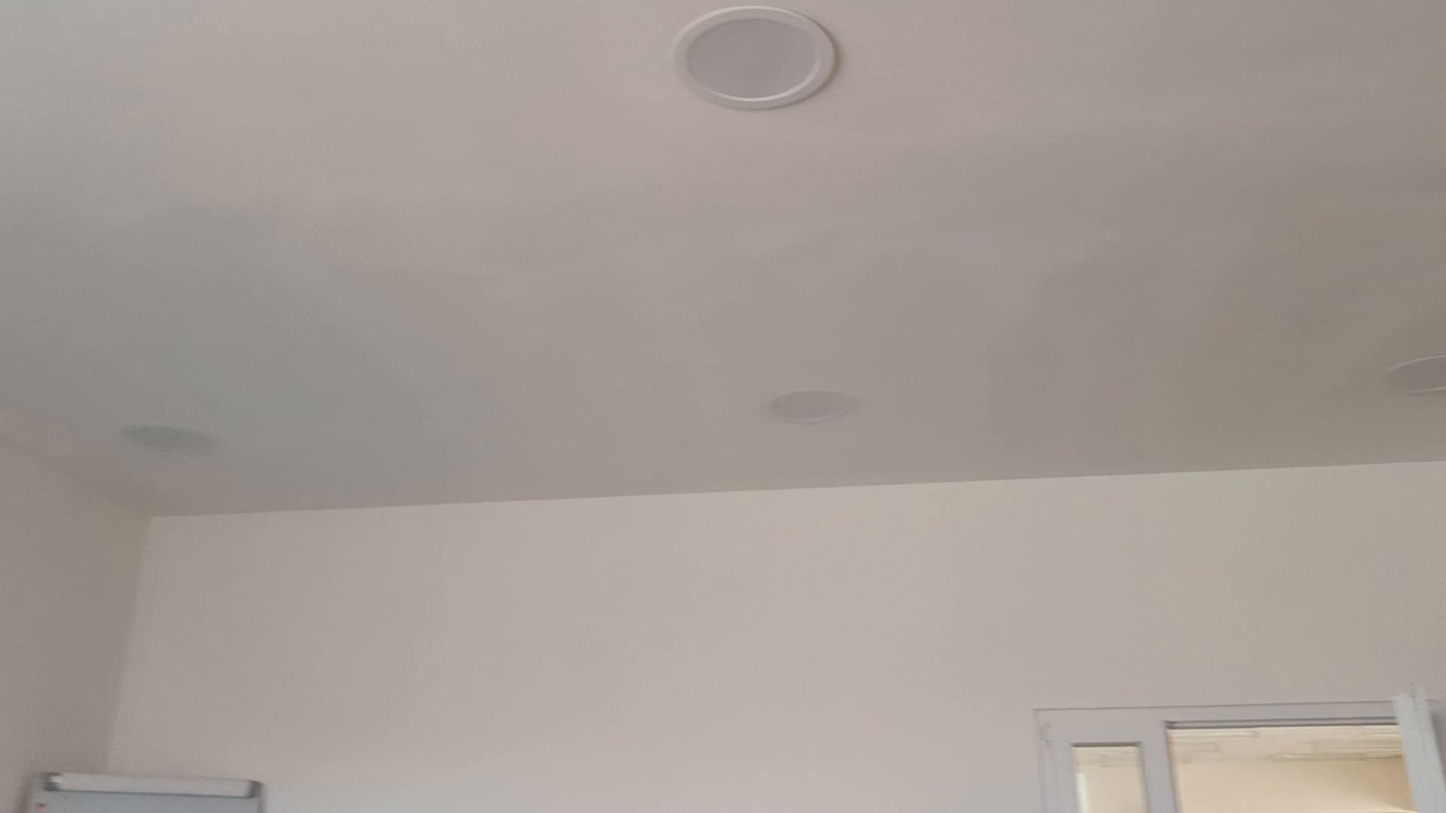ceiling: (0, 0, 1445, 513)
wall: (110, 463, 1445, 812), (4, 444, 153, 810)
